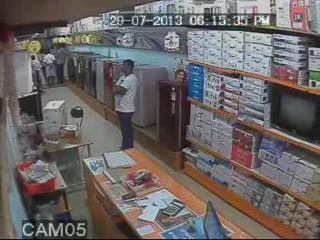Normal: (270, 91, 320, 147), (111, 58, 138, 150), (42, 48, 58, 86)
